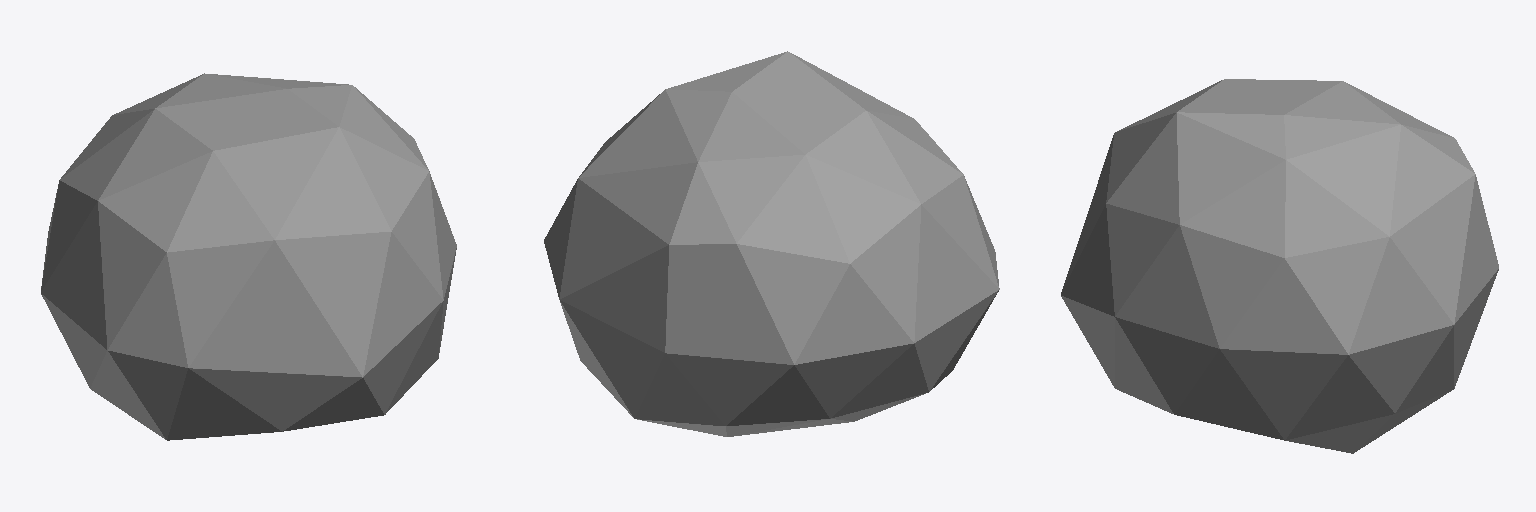
File: rock4.obj
3 views of the same model, side by side, from view 1: azimuth 30°, elevation 25°; view 2: azimuth 150°, elevation 25°; view 3: azimuth 270°, elevation 25° (orthographic).
Parts seen in each view (by area): view 1: Icosphere; view 2: Icosphere; view 3: Icosphere.
Part boxes in pixels (x1,y1,x2,y2): Icosphere: (41, 73, 456, 440); Icosphere: (544, 51, 999, 436); Icosphere: (1061, 79, 1498, 453).
Bounding box in the file's own units: 1 × 0.8 × 1.